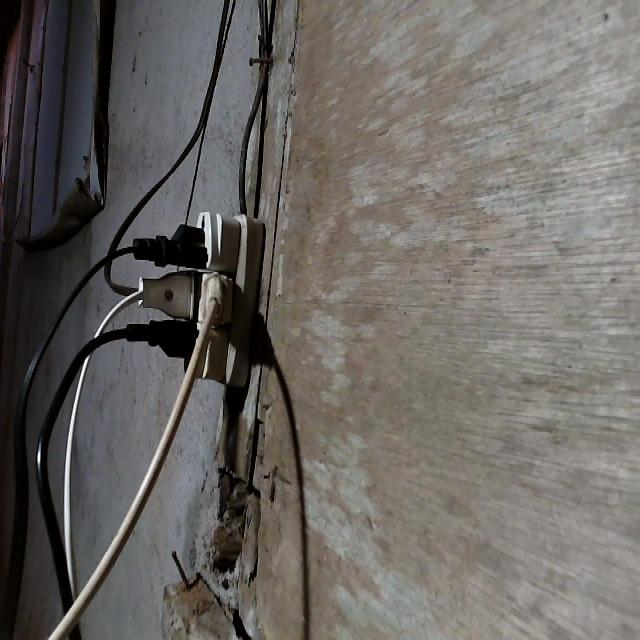-: (126, 207, 254, 390)
